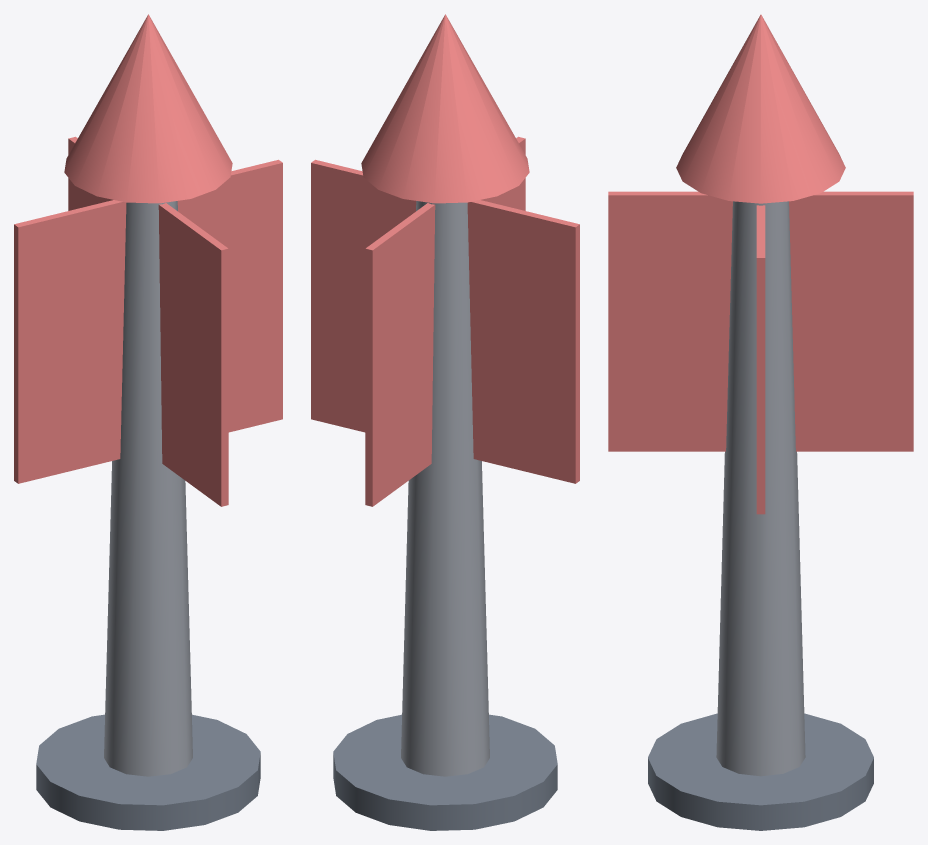
The model's file is jammer.glb.
3 views of the same model, side by side, from view 1: azimuth 30°, elevation 25°; view 2: azimuth 150°, elevation 25°; view 3: azimuth 270°, elevation 25° (orthographic).
Bounding box in the file's own units: 0.54 × 1.5 × 0.54.
